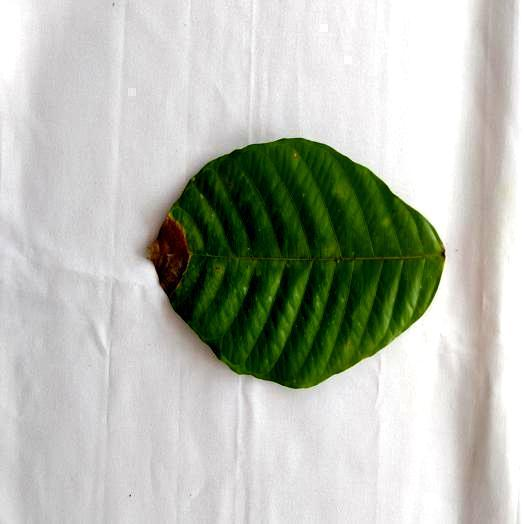Potassium: (150, 138, 444, 387)
